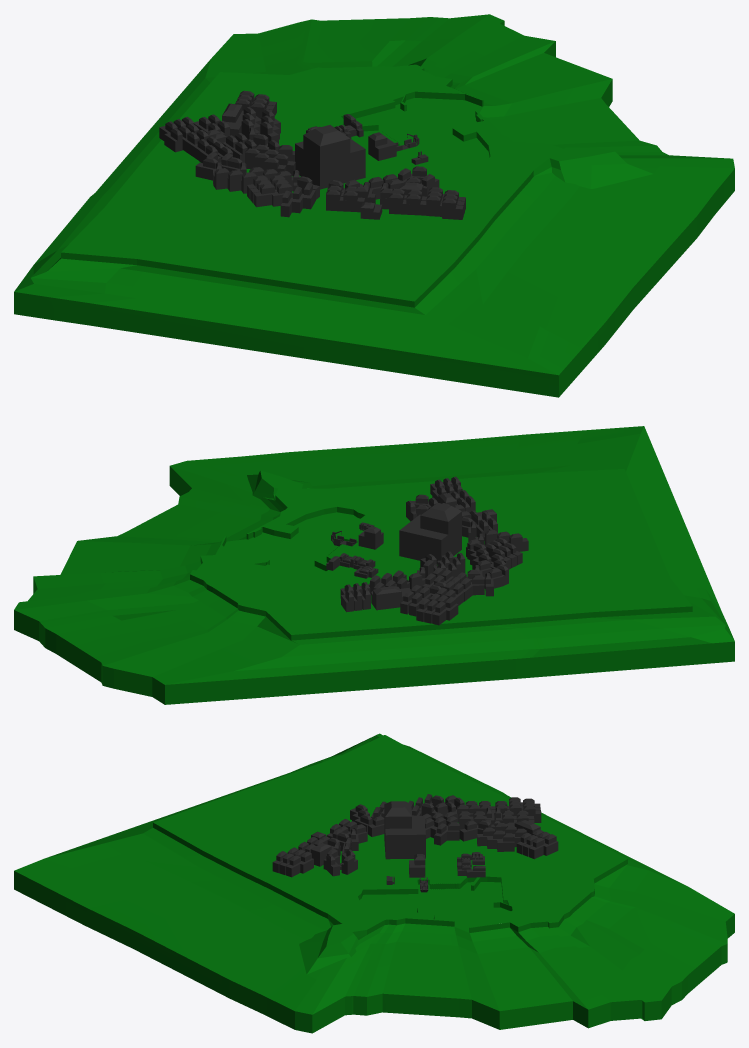
File: GameObject 1.fbx
3 views of the same model, one above another, from view 1: azimuth 30°, elevation 25°; view 2: azimuth 150°, elevation 25°; view 3: azimuth 270°, elevation 25° (orthographic). The views are drawn at different scales.
Parts seen in each view (by area): view 1: port, Plane_3, Plane_2; view 2: port, Plane_3, Plane_20, Plane_2; view 3: port, Plane_3.
Boxes of the visible parts, x1,y1,x2,y2 form: port: (14,14,734,397); Plane_3: (295,125,365,189); Plane_2: (368,132,396,160); port: (14,426,734,704); Plane_3: (399,502,461,564); Plane_20: (371,586,410,610); Plane_2: (358,526,383,549); port: (14,733,734,1033); Plane_3: (384,801,425,859).
Size of the model in its own units: 530848 by 75445 by 586045.
